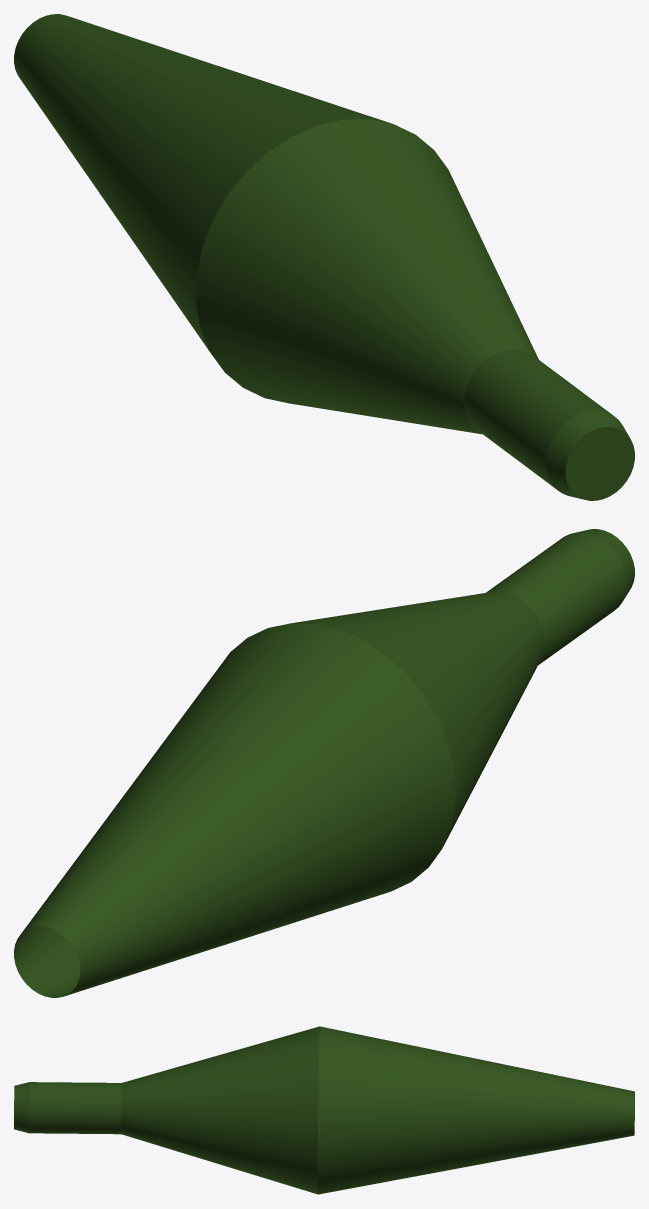
Rendered from rocket ammo.fbx.
The picture shows the model from 3 angles, top to bottom: view 1: azimuth 30°, elevation 25°; view 2: azimuth 150°, elevation 25°; view 3: azimuth 270°, elevation 25°; orthographic projection. The views are drawn at different scales.
Visible parts, largest first — view 1: Cylinder; view 2: Cylinder; view 3: Cylinder.
Boxes of the visible parts, x1,y1,x2,y2 form: Cylinder: (14,14,634,500); Cylinder: (14,529,634,997); Cylinder: (14,1026,634,1194).
Bounding box in the file's own units: 31.83 × 31.79 × 118.
